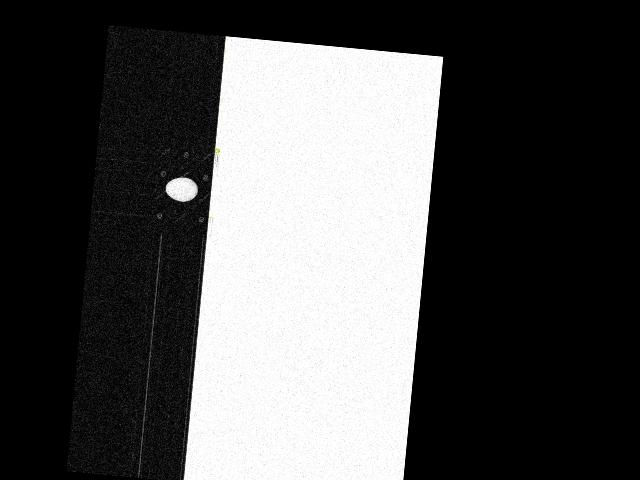egg: (164, 176, 199, 203)
